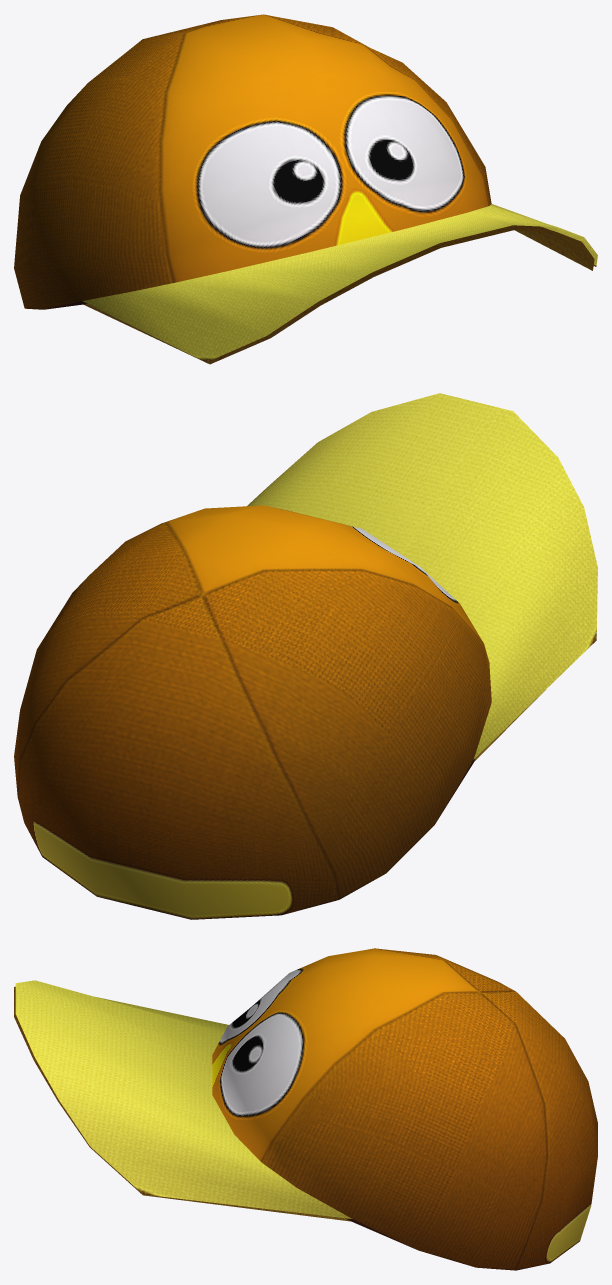
Rendered from TPHatB.fbx.
The picture shows the model from 3 angles, top to bottom: view 1: azimuth 30°, elevation 25°; view 2: azimuth 150°, elevation 25°; view 3: azimuth 270°, elevation 25°; orthographic projection. The views are drawn at different scales.
Parts seen in each view (by area): view 1: TPHatB; view 2: TPHatB; view 3: TPHatB.
Boxes of the visible parts, bbox=[...] form: TPHatB: bbox=[14, 14, 597, 364]; TPHatB: bbox=[14, 393, 597, 919]; TPHatB: bbox=[14, 948, 597, 1270].
Size of the model in its own units: 21.64 by 15.34 by 32.37.
1 material, 1 textured.
